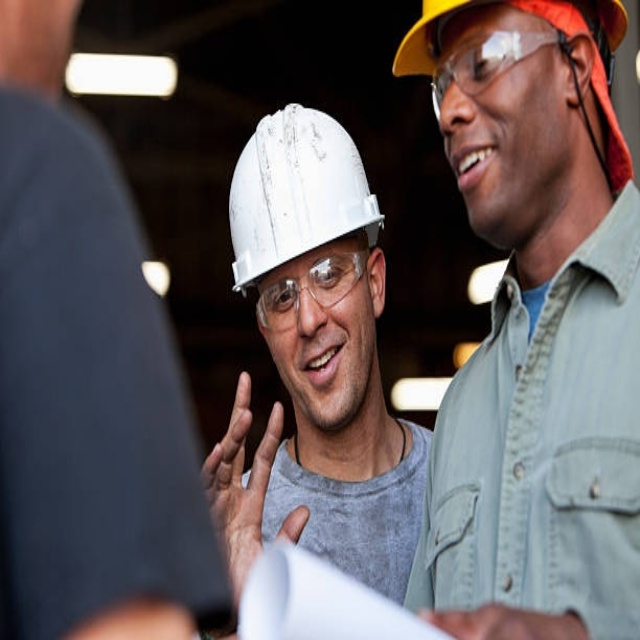Gafas: (425, 28, 574, 126), (252, 246, 370, 332)
Sin_guantes: (200, 366, 291, 604), (416, 599, 582, 640)
Sin_mascara: (290, 337, 361, 411), (448, 135, 513, 215)
